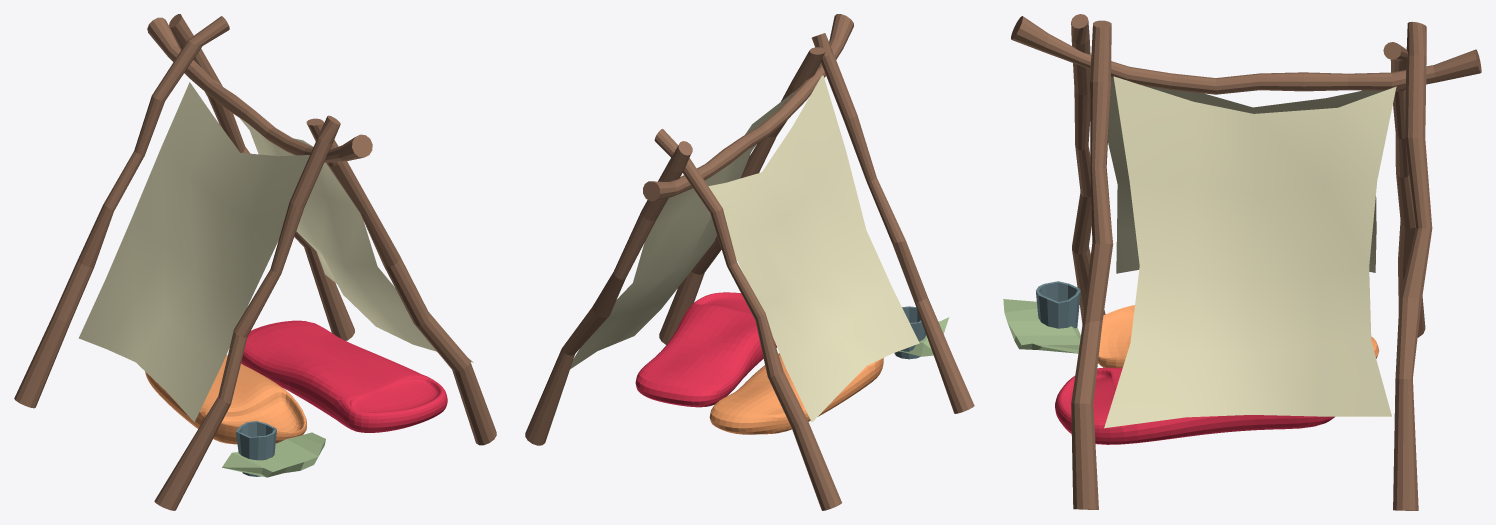
File: raft_tent.fbx
3 views of the same model, side by side, from view 1: azimuth 30°, elevation 25°; view 2: azimuth 150°, elevation 25°; view 3: azimuth 270°, elevation 25° (orthographic). The views are drawn at different scales.
Visible parts, largest first — view 1: Plane.003, Plane.001, Plane.002, Cylinder.003, Cylinder.001, Cylinder, Plane, Cylinder.004, Cylinder.002, Cube.001, Cylinder.005; view 2: Plane.003, Plane.001, Plane.002, Cylinder.003, Cylinder.001, Cylinder.002, Plane, Cylinder.004, Cylinder, Cylinder.005; view 3: Plane.002, Cylinder, Cylinder.002, Cylinder.004, Plane.001, Plane.003, Cylinder.001, Cylinder.003, Cube.001, Plane, Cylinder.005.
Part boxes in pixels (<box>): Plane.003: <box>79,82,309,422</box>; Plane.001: <box>241,320,447,432</box>; Plane.002: <box>215,81,473,362</box>; Cylinder.003: <box>14,16,229,408</box>; Cylinder.001: <box>154,115,340,510</box>; Cylinder: <box>306,118,496,445</box>; Plane: <box>145,354,306,444</box>; Cylinder.004: <box>147,17,372,162</box>; Cylinder.002: <box>169,14,354,340</box>; Cube.001: <box>222,432,325,477</box>; Cylinder.005: <box>236,421,276,476</box>; Plane.003: <box>708,75,919,422</box>; Plane.001: <box>635,292,776,407</box>; Plane.002: <box>570,88,798,369</box>; Cylinder.003: <box>654,129,841,510</box>; Cylinder.001: <box>811,33,974,413</box>; Cylinder.002: <box>525,141,692,445</box>; Plane: <box>709,353,883,434</box>; Cylinder.004: <box>643,14,853,201</box>; Cylinder: <box>659,47,825,344</box>; Cylinder.005: <box>894,306,926,359</box>; Plane.002: <box>1104,76,1396,428</box>; Cylinder: <box>1071,20,1113,509</box>; Cylinder.002: <box>1393,21,1432,510</box>; Cylinder.004: <box>1011,16,1481,94</box>; Plane.001: <box>1055,367,1334,444</box>; Plane.003: <box>1108,78,1383,273</box>; Cylinder.001: <box>1071,14,1105,324</box>; Cylinder.003: <box>1383,42,1425,337</box>; Cube.001: <box>1003,299,1080,353</box>; Plane: <box>1098,305,1379,367</box>; Cylinder.005: <box>1036,281,1080,328</box>.
Bounding box in the file's own units: 197 × 207 × 217.
